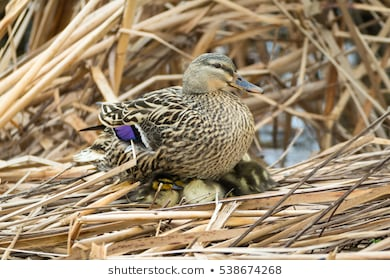duck: (72, 36, 276, 188)
